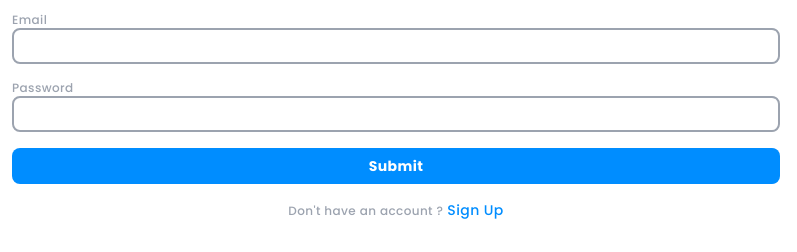
it: LoginForm › should render error message when authentication fails
Type "testuser123@gmail.com" into the field labelled "Email".
click(396, 46); type("testuser123@gmail.com")  # box [12,28,780,64]
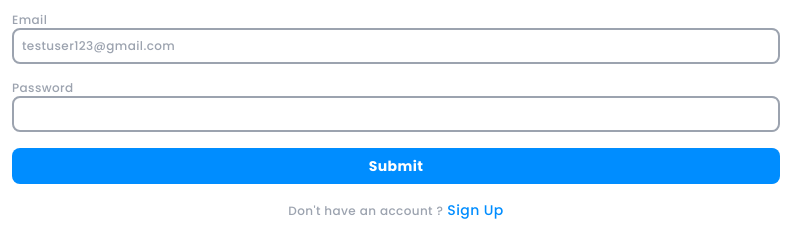
Type "12345678" into the password field labelled "Password".
click(396, 114); type("12345678")  # box [12,96,780,132]
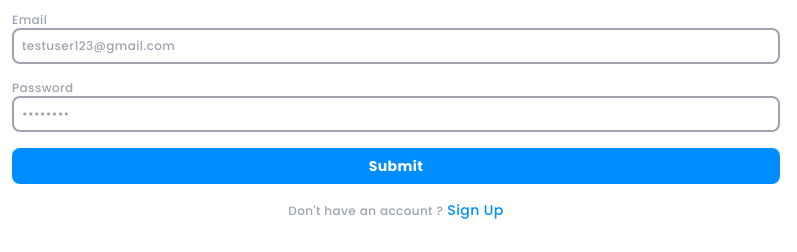
Click the button "Submit".
click(396, 166)  # box [12,148,780,184]
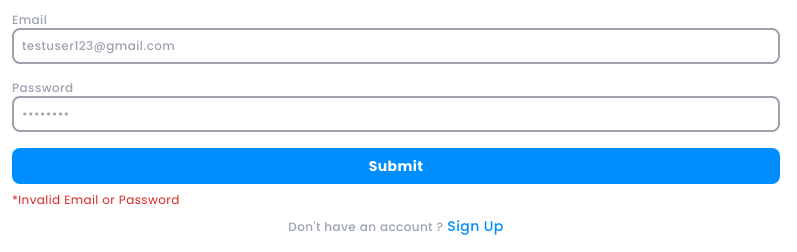
Now the text "*Invalid Email or Password" is shown, box [12,191,180,208]
